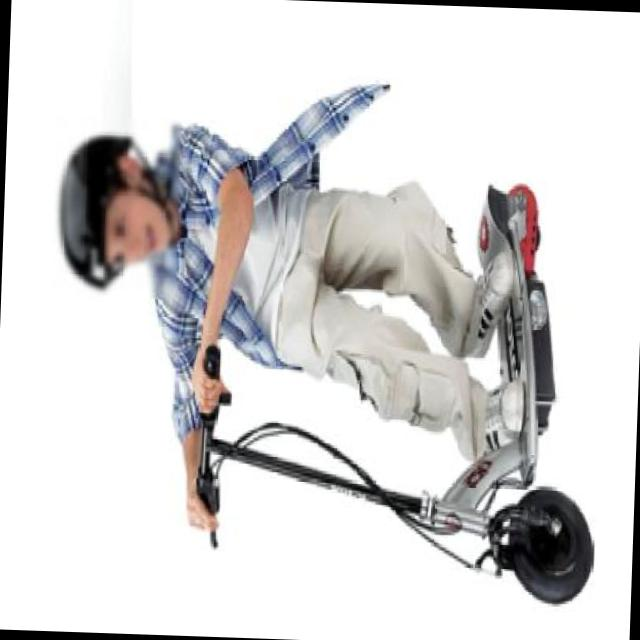With Helmet: (50, 114, 183, 299)
